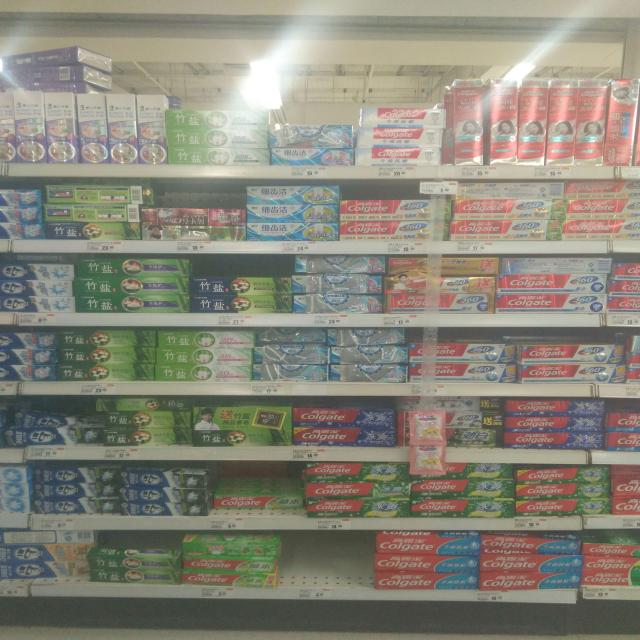void: (345, 527, 374, 602), (285, 532, 313, 602), (316, 530, 340, 602)
